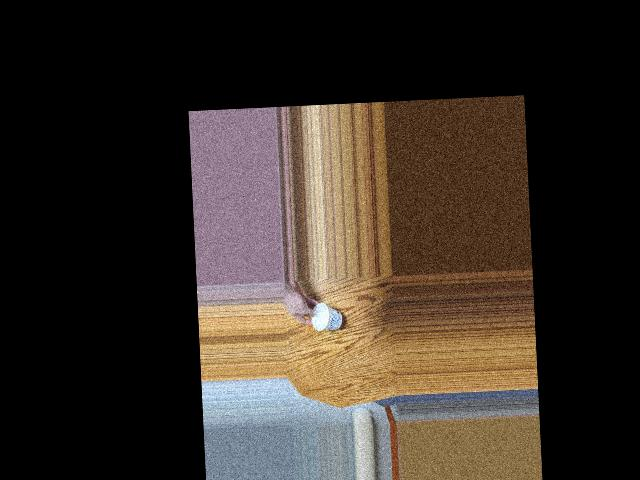cotage: (308, 297, 343, 331)
